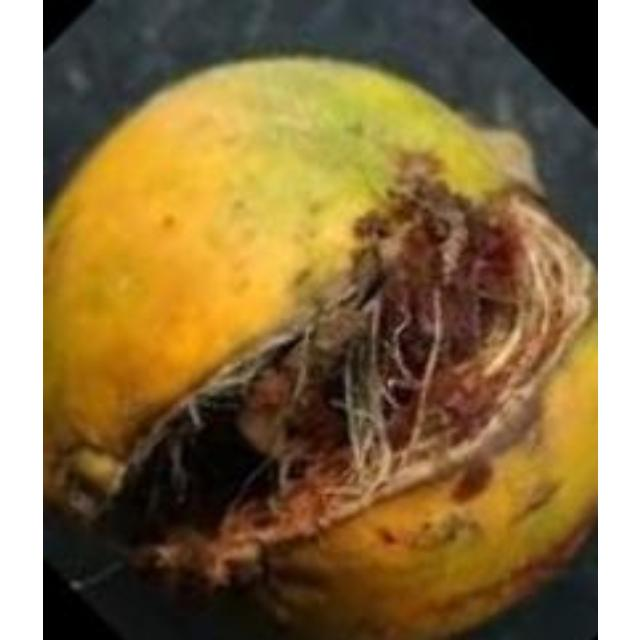damaged: (42, 53, 594, 637)
